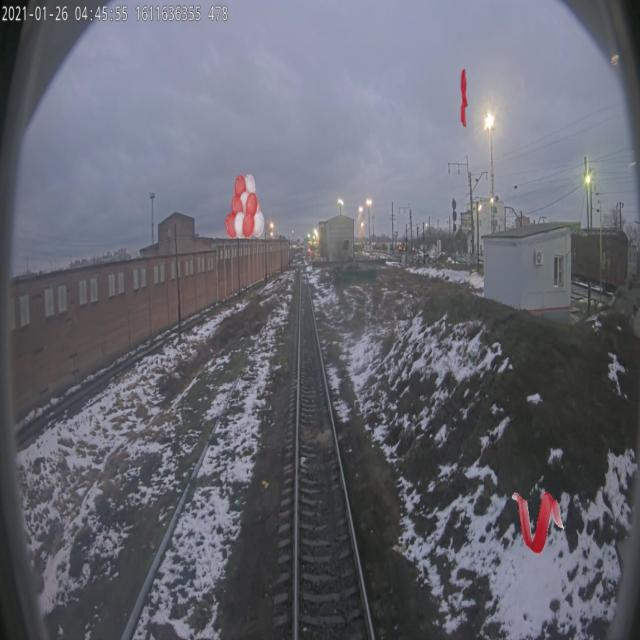balloon: (225, 174, 264, 238)
floating object: (511, 490, 565, 554), (461, 64, 468, 128)
